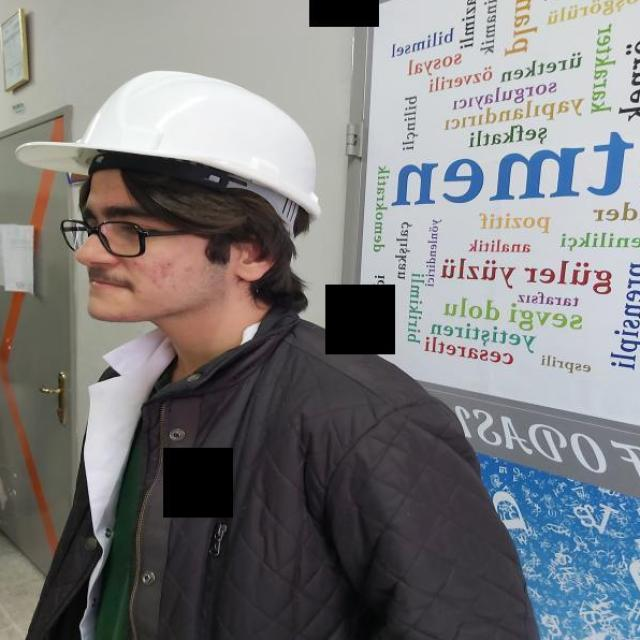helmet: (15, 69, 322, 222)
